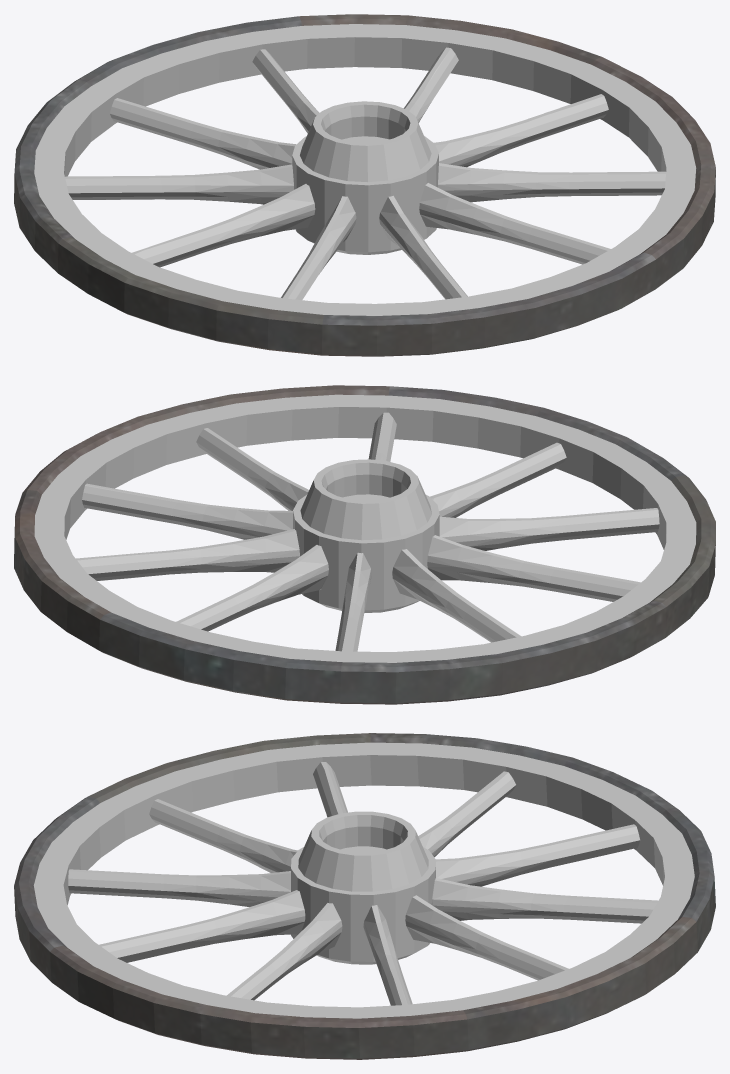
The model's file is SM_CartWheel_01.fbx.
The picture shows the model from 3 angles, top to bottom: view 1: azimuth 30°, elevation 25°; view 2: azimuth 150°, elevation 25°; view 3: azimuth 270°, elevation 25°; orthographic projection.
Parts seen in each view (by area): view 1: SM_CartWheel_01_LOD0; view 2: SM_CartWheel_01_LOD0; view 3: SM_CartWheel_01_LOD0.
Boxes of the visible parts, bbox=[...] form: SM_CartWheel_01_LOD0: bbox=[14, 14, 715, 356]; SM_CartWheel_01_LOD0: bbox=[14, 385, 715, 704]; SM_CartWheel_01_LOD0: bbox=[14, 733, 715, 1059].
Bounding box in the file's own units: 87.68 × 87.78 × 14.53.
